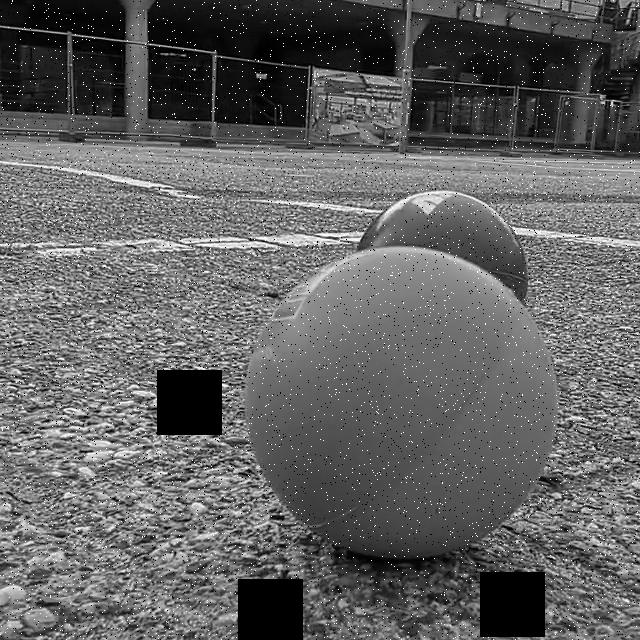ball: (245, 252, 560, 566), (355, 187, 534, 252)
